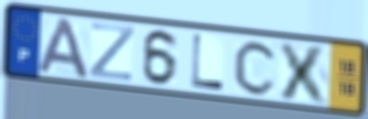6: (142, 28, 181, 87)
A: (35, 15, 92, 81)
C: (232, 38, 281, 98)
L: (189, 32, 226, 92)
X: (277, 39, 332, 107)
Z: (87, 20, 137, 84)
